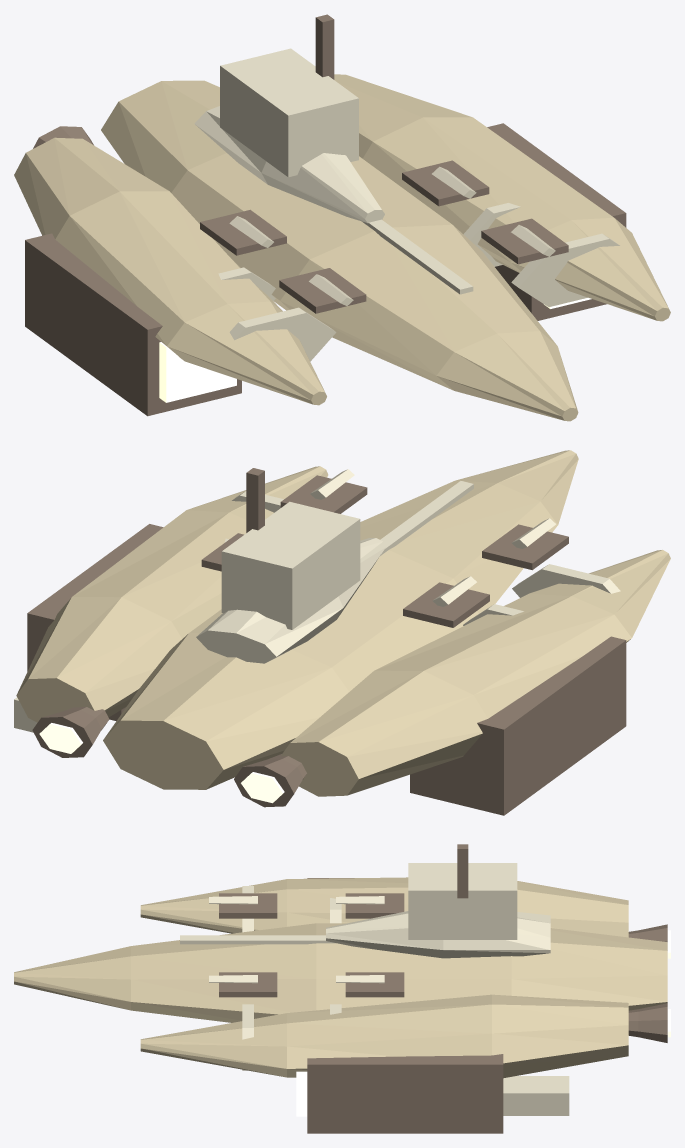
3 renders of one model, top to bottom at view 1: azimuth 30°, elevation 25°; view 2: azimuth 150°, elevation 25°; view 3: azimuth 270°, elevation 25°, orthographic. The views are drawn at different scales.
Size of the model in its own units: 16.22 by 8.41 by 24.12.
